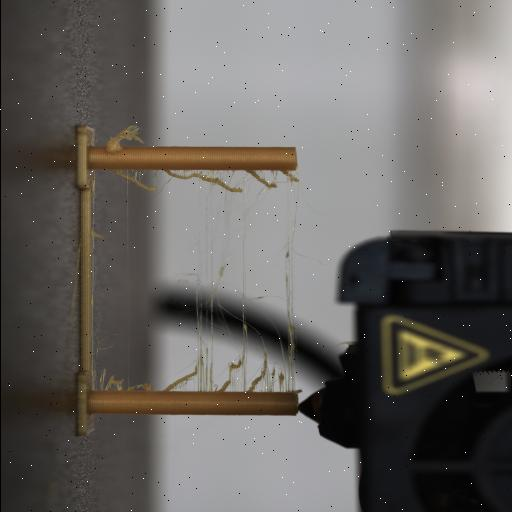stringing: (176, 168, 308, 392), (98, 168, 308, 202), (92, 361, 300, 394), (90, 120, 154, 156)
